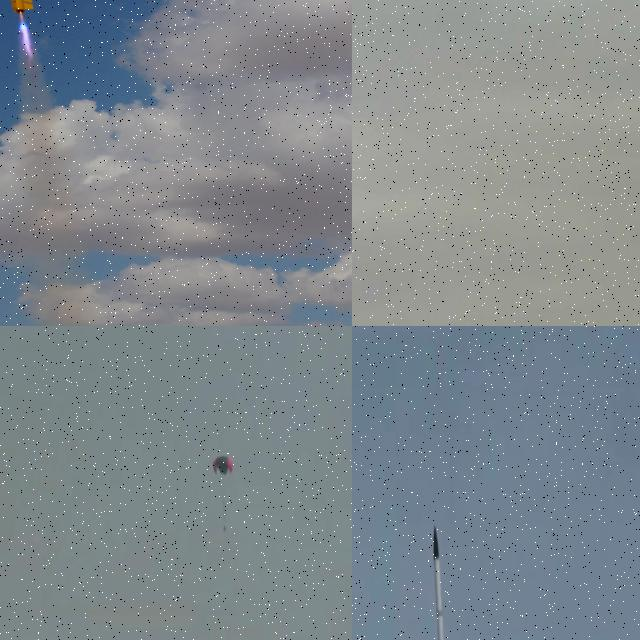Rocket: (432, 526, 454, 640), (10, 0, 33, 14), (223, 524, 226, 534)
